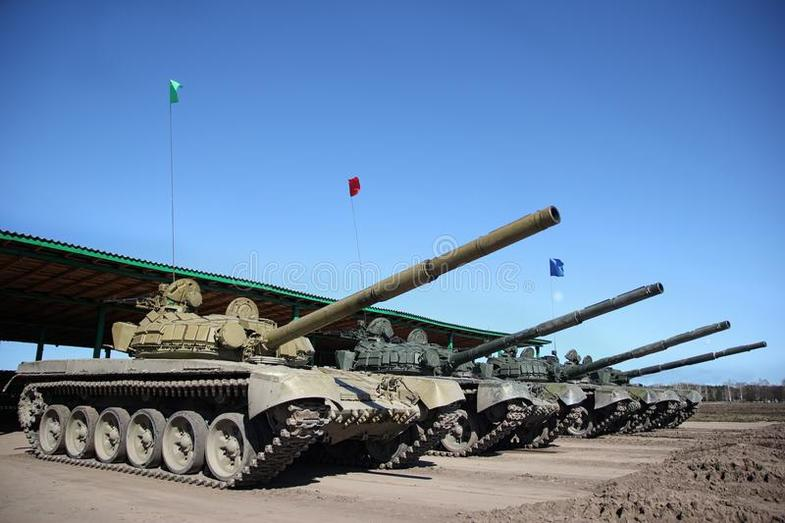t72: (18, 281, 466, 474)
